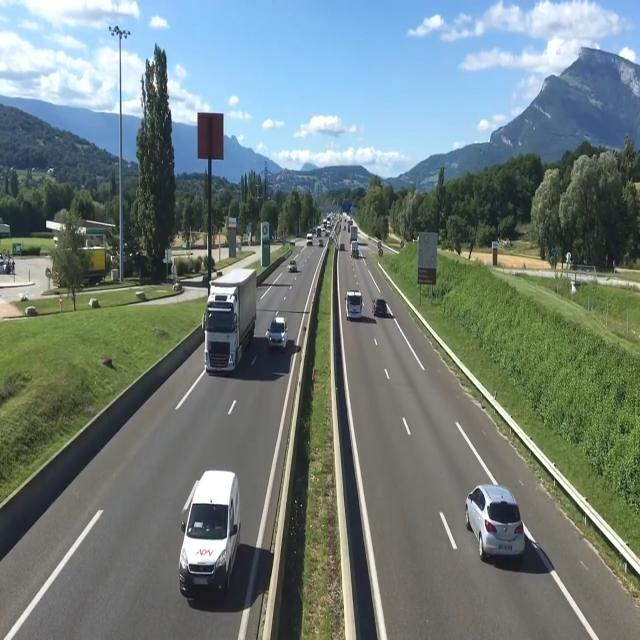Car: (467, 483, 528, 560), (263, 314, 291, 351), (371, 298, 390, 318), (286, 257, 300, 274)
Truck: (190, 270, 262, 373)
Van: (160, 464, 264, 598), (344, 283, 366, 321), (306, 232, 314, 248)
